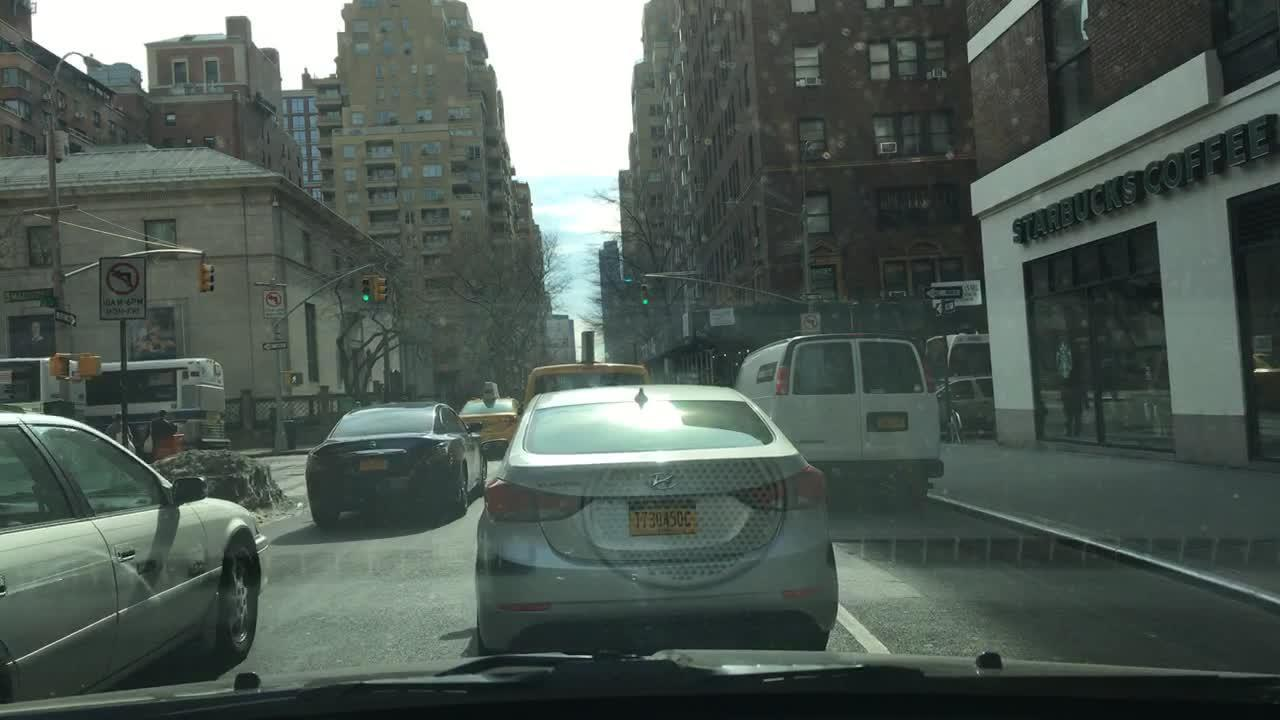Hyundai: (639, 468, 692, 500)
